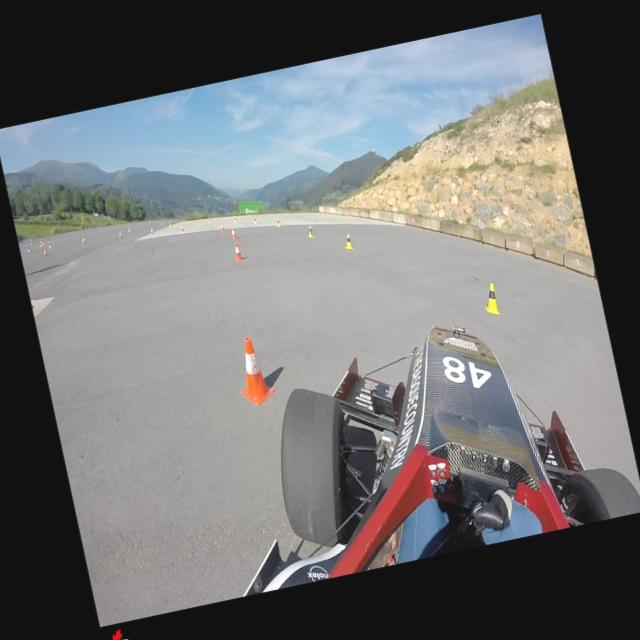orange_cone: (230, 333, 276, 408), (232, 242, 243, 262), (230, 228, 236, 238), (180, 222, 184, 232), (220, 222, 224, 231), (150, 226, 154, 234), (43, 248, 47, 256), (81, 237, 85, 245), (118, 231, 122, 238)
yellow_cone: (480, 282, 500, 316), (342, 232, 353, 250), (306, 225, 314, 238), (276, 218, 280, 227), (253, 216, 257, 224), (126, 225, 130, 232), (168, 220, 172, 227), (232, 216, 236, 223), (48, 242, 52, 248), (208, 217, 211, 223), (28, 245, 30, 252), (29, 240, 32, 244), (82, 234, 84, 240), (40, 238, 43, 242), (40, 242, 42, 246), (42, 240, 44, 244), (56, 235, 58, 239)
